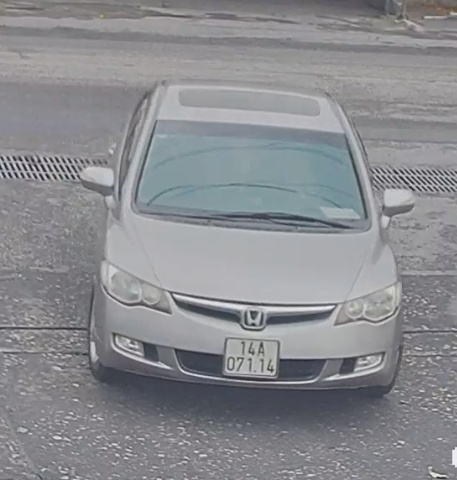vehicle plate: (220, 331, 283, 380)
